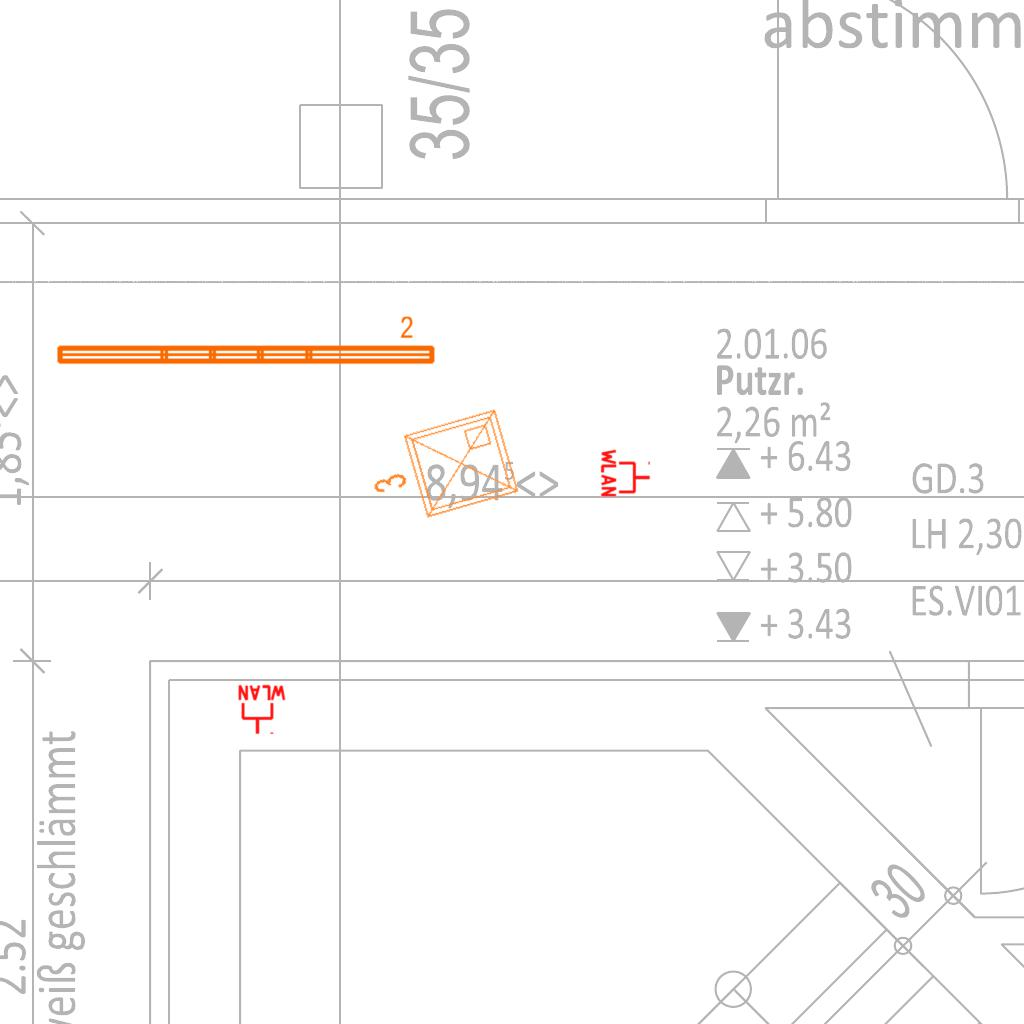Ambulanz_Pendelleuchte_LED: (52, 314, 439, 370)
Einbaudownlights_LED_Konferenzraeume: (355, 400, 529, 542)
WLAN: (236, 684, 288, 736), (600, 447, 652, 499)
